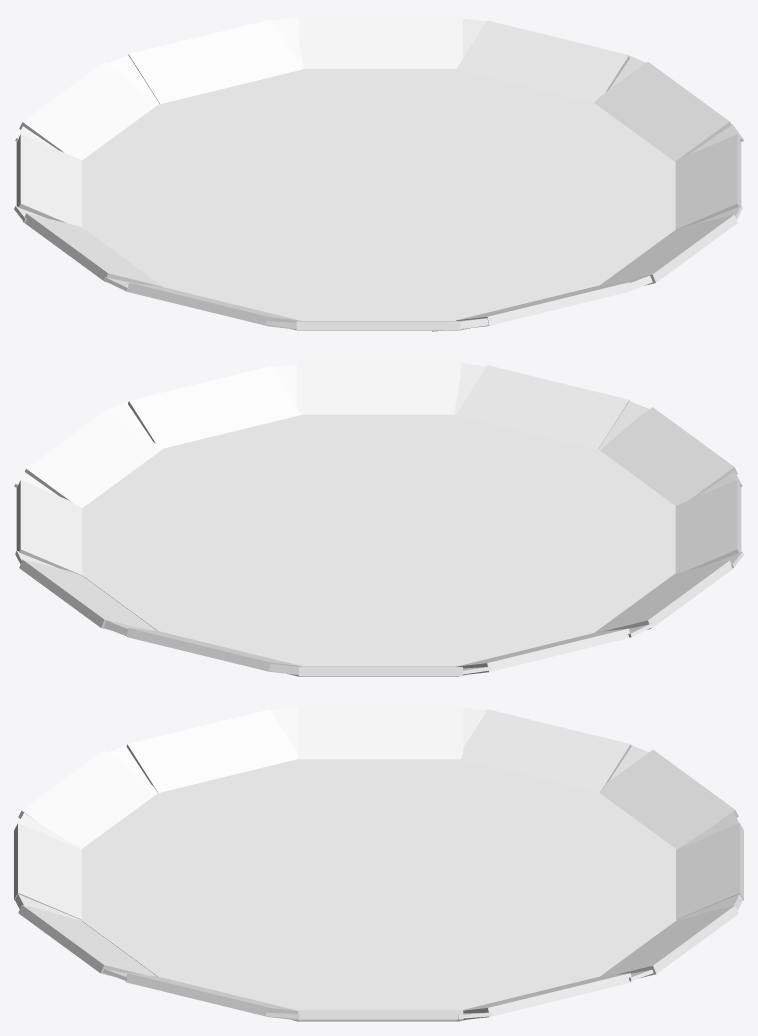
File: plates.fbx
The picture shows the model from 3 angles, top to bottom: view 1: azimuth 30°, elevation 25°; view 2: azimuth 150°, elevation 25°; view 3: azimuth 270°, elevation 25°; orthographic projection.
Parts seen in each view (by area): view 1: cylinder, cube_3, cube_1, cube_4, cube_10, cube_2, cube_6, cube_5, cube_11, cube_8, cube_7, cube (+3 smaller); view 2: cylinder, cube_8, cube, cube_6, cube_10, cube_9, cube_7, cube_4, cube_11, cube_3, cube_5, cube_1 (+4 smaller); view 3: cylinder, cube_11, cube_7, cube_5, cube_2, cube_9, cube, cube_1, cube_8, cube_3, cube_6, cube_4 (+2 smaller).
Part boxes in pixels (bbox=[...]): cylinder: bbox=[82, 69, 675, 330]; cube_3: bbox=[299, 14, 462, 68]; cube_1: bbox=[128, 19, 301, 103]; cube_4: bbox=[456, 20, 629, 102]; cube_10: bbox=[594, 62, 731, 161]; cube_2: bbox=[19, 62, 157, 159]; cube_6: bbox=[675, 134, 741, 229]; cube_5: bbox=[16, 134, 82, 227]; cube_11: bbox=[23, 213, 162, 286]; cube_8: bbox=[600, 214, 737, 285]; cube_7: bbox=[127, 283, 301, 329]; cube: bbox=[456, 282, 631, 328]; cylinder: bbox=[82, 414, 675, 676]; cube_8: bbox=[296, 360, 460, 414]; cube: bbox=[456, 365, 629, 449]; cube_6: bbox=[128, 366, 301, 448]; cube_10: bbox=[24, 409, 162, 507]; cube_9: bbox=[600, 407, 737, 505]; cube_7: bbox=[675, 480, 741, 573]; cube_4: bbox=[16, 480, 82, 575]; cube_11: bbox=[594, 560, 733, 632]; cube_3: bbox=[19, 559, 157, 631]; cube_5: bbox=[456, 628, 630, 674]; cube_1: bbox=[126, 628, 301, 674]; cylinder: bbox=[81, 759, 676, 1021]; cube_11: bbox=[298, 705, 463, 759]; cube_7: bbox=[126, 709, 298, 792]; cube_5: bbox=[461, 709, 631, 792]; cube_2: bbox=[600, 749, 738, 848]; cube_9: bbox=[18, 750, 157, 848]; cube: bbox=[14, 823, 81, 919]; cube_1: bbox=[676, 823, 743, 919]; cube_8: bbox=[18, 905, 156, 976]; cube_3: bbox=[601, 905, 738, 977]; cube_6: bbox=[125, 973, 300, 1020]; cube_4: bbox=[457, 973, 632, 1020].
Bounding box in the file's own units: 122 × 6.97 × 122.
1 material, 1 textured.
